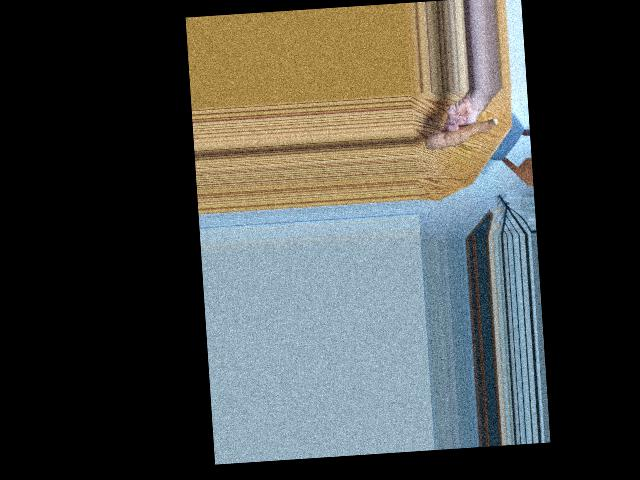sweet_potato: (425, 113, 498, 153)
